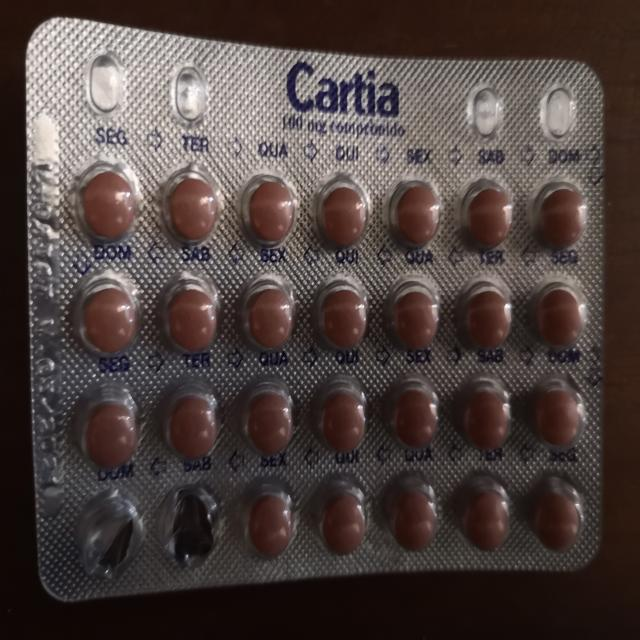Empty: (67, 494, 145, 580), (152, 485, 221, 574)
Pill: (67, 270, 141, 361), (70, 388, 146, 472), (156, 162, 226, 250), (71, 158, 138, 244), (157, 380, 224, 466), (526, 174, 592, 260), (231, 377, 301, 458), (380, 473, 447, 557), (306, 169, 371, 255), (305, 478, 374, 559), (235, 477, 300, 562), (381, 273, 445, 359), (306, 376, 372, 459), (451, 472, 515, 557), (234, 275, 300, 357), (156, 272, 219, 357), (306, 276, 372, 355), (381, 374, 444, 456), (456, 174, 516, 259), (236, 170, 298, 252), (527, 374, 588, 455), (455, 277, 516, 358), (454, 378, 515, 459), (530, 279, 591, 359), (526, 480, 586, 559), (384, 171, 443, 251)
